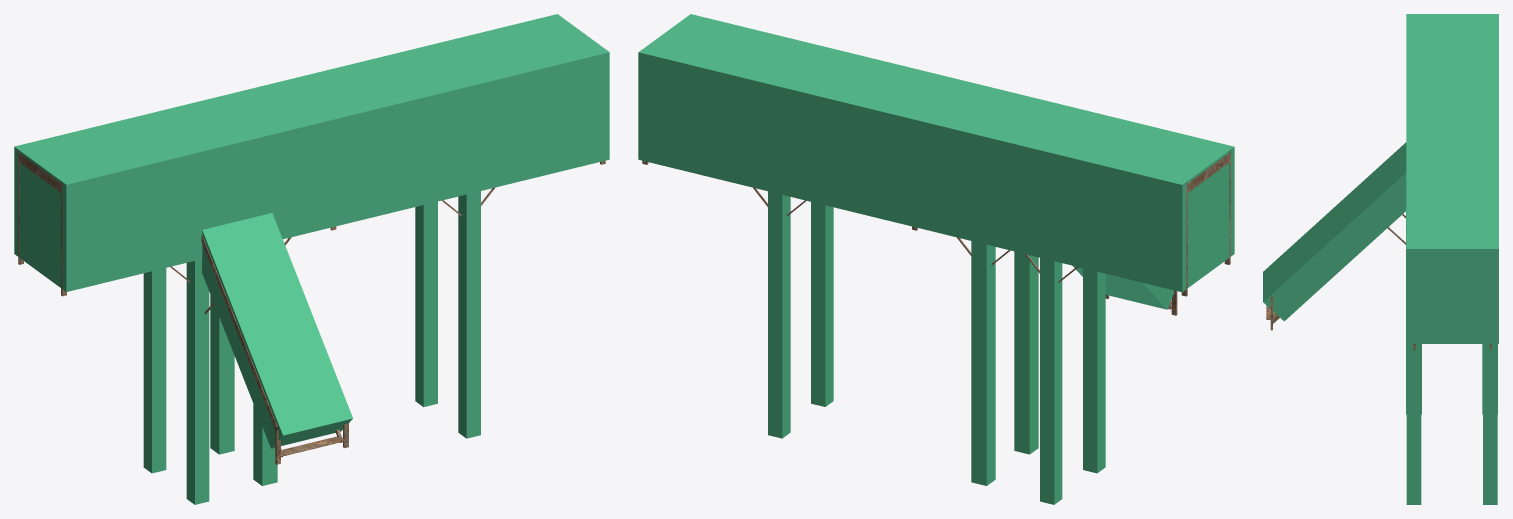
The model's file is ind_walk_Str.dae.
3 views of the same model, side by side, from view 1: azimuth 30°, elevation 25°; view 2: azimuth 150°, elevation 25°; view 3: azimuth 270°, elevation 25° (orthographic). The views are drawn at different scales.
Parts seen in each view (by area): view 1: Colmesh-1, ind_bld_c300; view 2: Colmesh-1, ind_bld_c300; view 3: Colmesh-1, ind_bld_c300.
Boxes of the visible parts, x1,y1,x2,y2 form: Colmesh-1: [14, 14, 609, 504]; ind_bld_c300: [18, 150, 605, 464]; Colmesh-1: [638, 14, 1234, 504]; ind_bld_c300: [642, 150, 1230, 315]; Colmesh-1: [1263, 14, 1498, 504]; ind_bld_c300: [1266, 214, 1491, 350].
Size of the model in its own units: 12 by 5.09 by 7.42.
